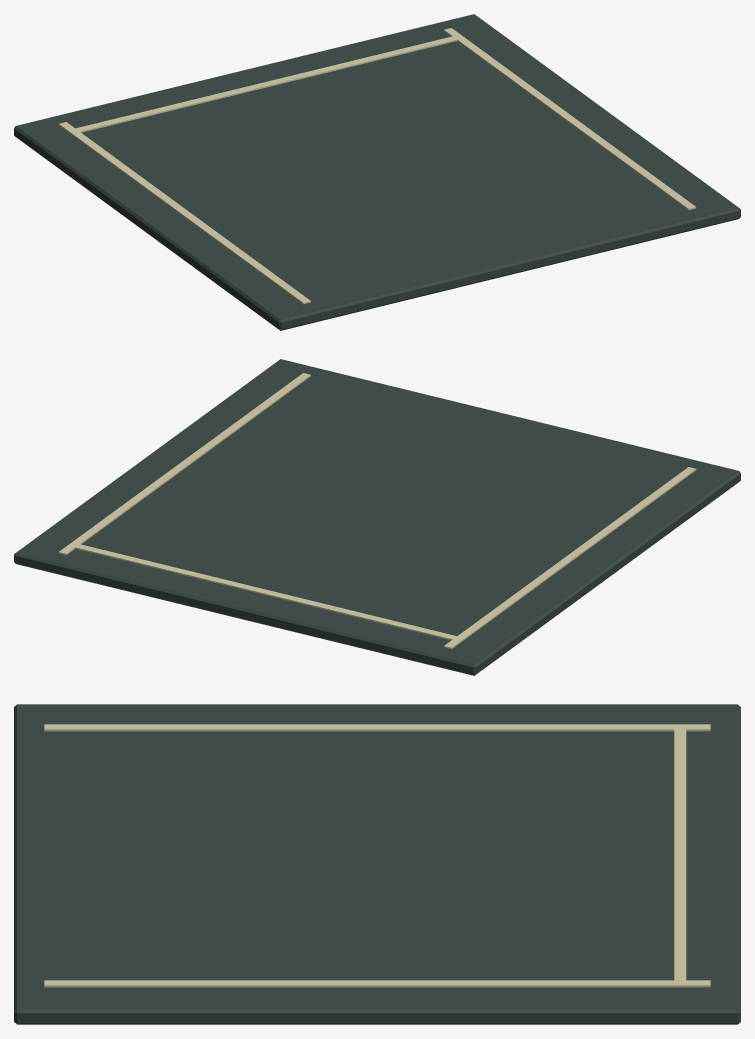
The model's file is parking_slab.glb.
3 renders of one model, top to bottom at view 1: azimuth 30°, elevation 25°; view 2: azimuth 150°, elevation 25°; view 3: azimuth 270°, elevation 25°, orthographic. The views are drawn at different scales.
Visible parts, largest first — view 1: parking_slab.001; view 2: parking_slab.001; view 3: parking_slab.001.
Part boxes in pixels (x1,y1,x2,y2): parking_slab.001: (14, 14, 740, 330); parking_slab.001: (14, 359, 740, 675); parking_slab.001: (14, 704, 740, 1024).
Bounding box in the file's own units: 6 × 0.158 × 6.
